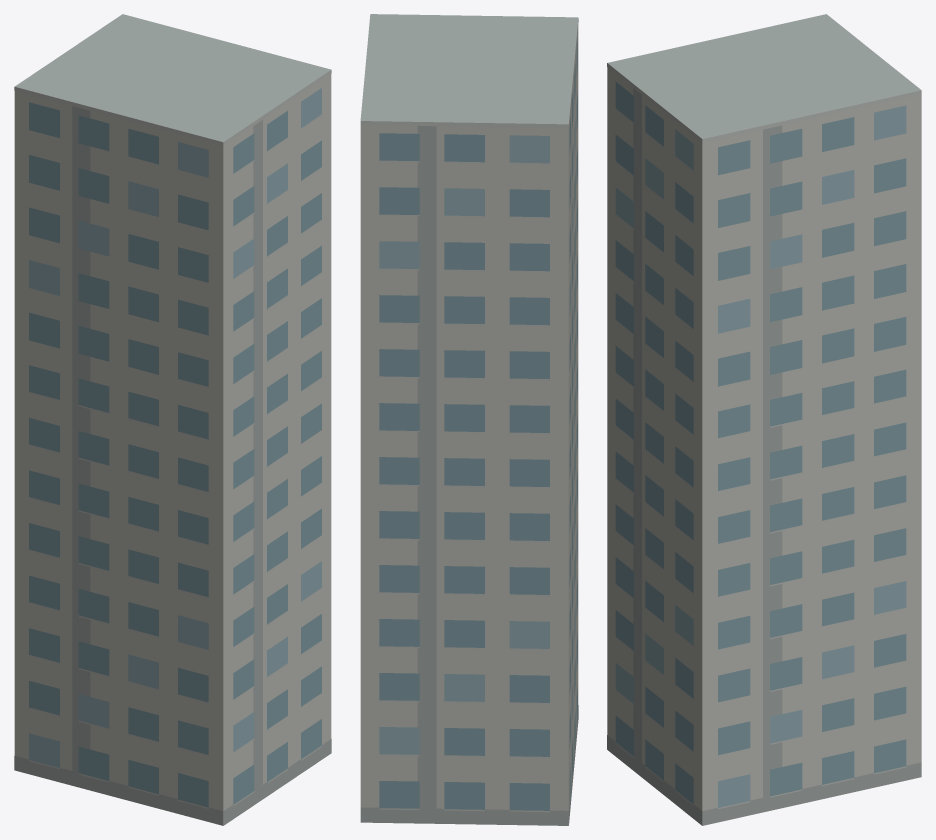
Rendered from residential-bded5cac-be6f-49d8-bf80-40d212383869.glb.
The picture shows the model from 3 angles, left to right: view 1: azimuth 30°, elevation 25°; view 2: azimuth 150°, elevation 25°; view 3: azimuth 270°, elevation 25°; orthographic projection. The views are drawn at different scales.
Visible parts, largest first — view 1: residential-bded5cac-be6f-49d8-bf80-40d212383869.tmp; view 2: residential-bded5cac-be6f-49d8-bf80-40d212383869.tmp; view 3: residential-bded5cac-be6f-49d8-bf80-40d212383869.tmp.
Boxes of the visible parts, x1,y1,x2,y2 form: residential-bded5cac-be6f-49d8-bf80-40d212383869.tmp: (14, 14, 331, 825); residential-bded5cac-be6f-49d8-bf80-40d212383869.tmp: (360, 14, 578, 825); residential-bded5cac-be6f-49d8-bf80-40d212383869.tmp: (607, 14, 921, 825).
Bounding box in the file's own units: 16.42 × 42 × 17.44.
